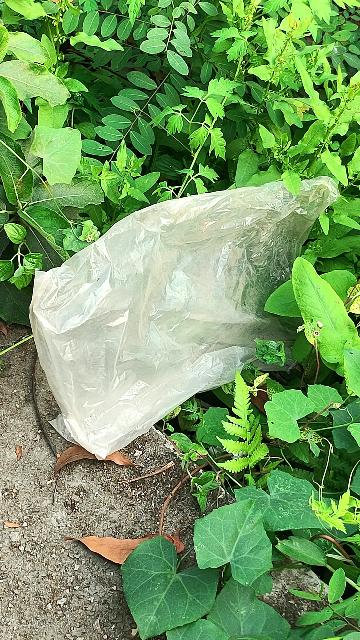polythene: (29, 173, 346, 449)
